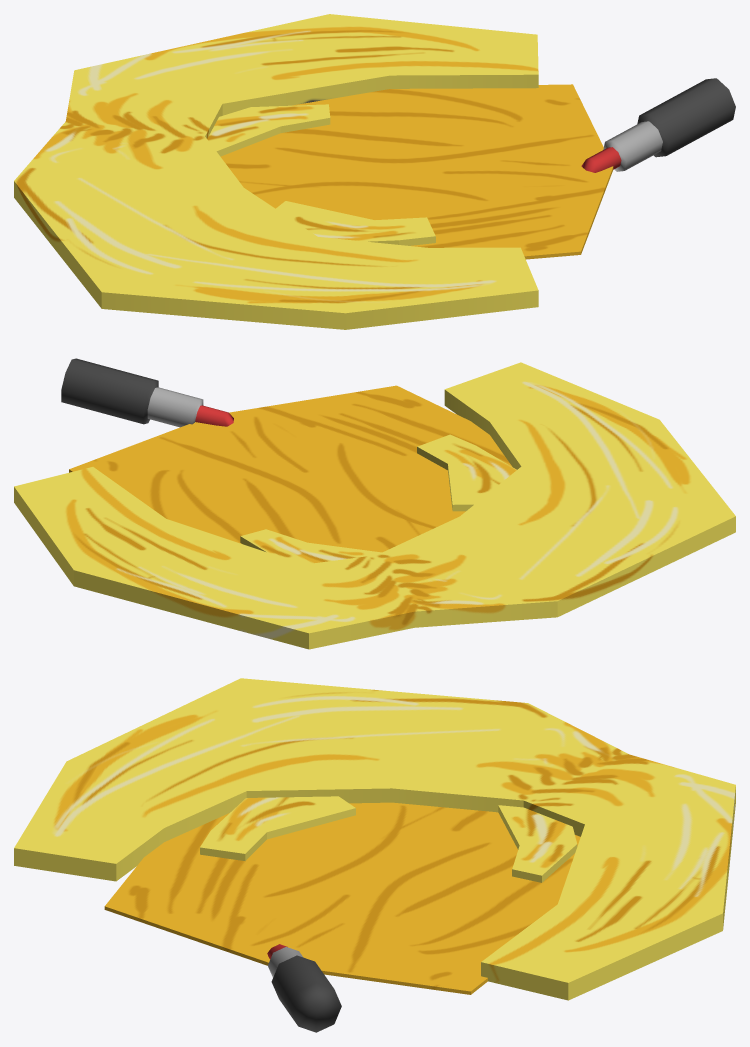
The model's file is hair.fbx.
3 renders of one model, top to bottom at view 1: azimuth 30°, elevation 25°; view 2: azimuth 150°, elevation 25°; view 3: azimuth 270°, elevation 25°, orthographic. The views are drawn at different scales.
Parts seen in each view (by area): view 1: pCube3; view 2: pCube3; view 3: pCube3.
Boxes of the visible parts, box(x1,y1,x2,y2) form: pCube3: box(14, 14, 735, 329); pCube3: box(14, 358, 735, 649); pCube3: box(14, 678, 735, 1032).
Bounding box in the file's own units: 34.36 × 2.76 × 30.86.
Materials: 1 (1 with a texture image).
